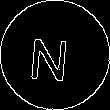N_N: (33, 28, 77, 82)
